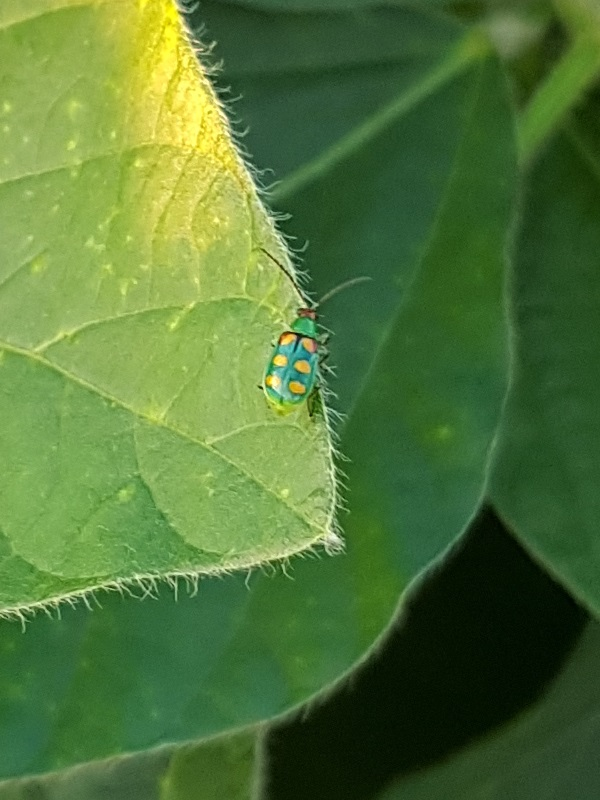Diabrotica_speciosa: (238, 241, 387, 424)
